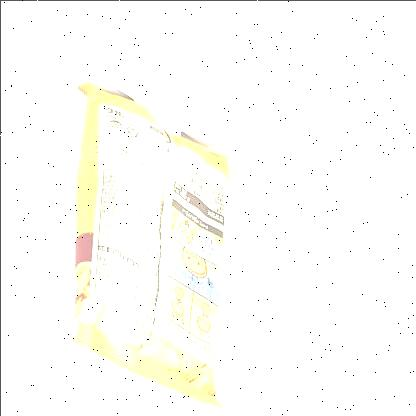Others: (47, 75, 241, 416)
